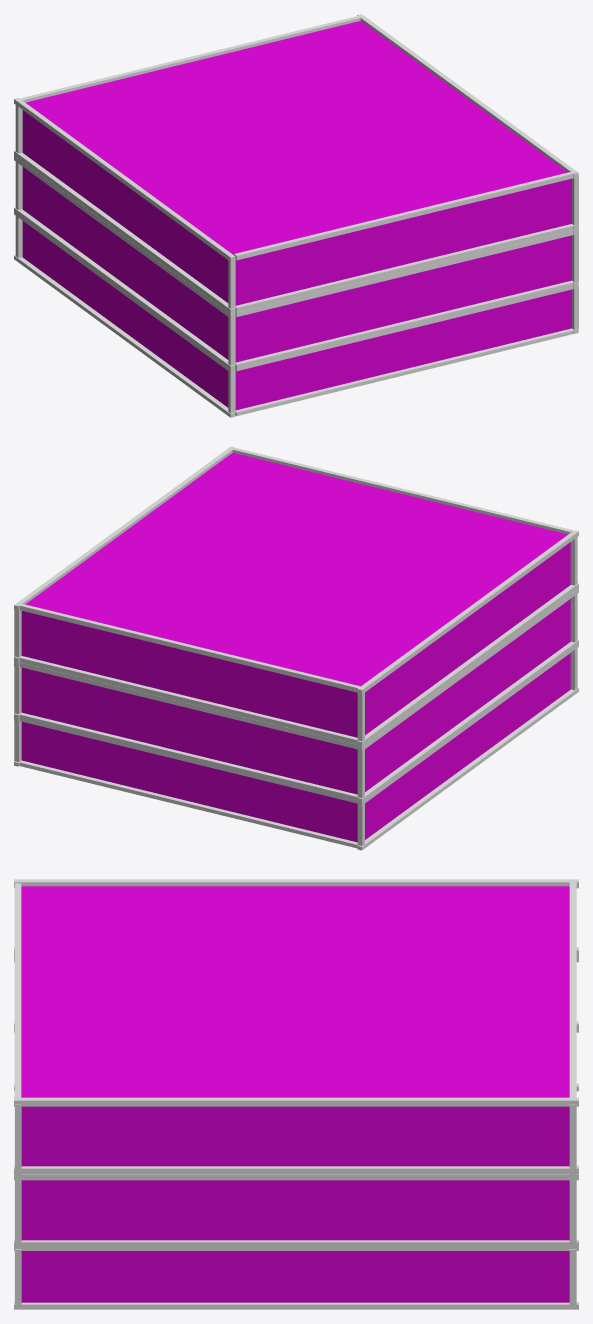
The model's file is interactivesOnly.glb.
The picture shows the model from 3 angles, top to bottom: view 1: azimuth 30°, elevation 25°; view 2: azimuth 150°, elevation 25°; view 3: azimuth 270°, elevation 25°; orthographic projection. The views are drawn at different scales.
Parts seen in each view (by area): view 1: interactive_cube_L3, interactive_cube_L2, interactive_cube_L1, interactive_frame_L3, interactive_frame_L2, interactive_frame_L1; view 2: interactive_cube_L3, interactive_cube_L2, interactive_cube_L1, interactive_frame_L3, interactive_frame_L2, interactive_frame_L1; view 3: interactive_cube_L3, interactive_cube_L2, interactive_cube_L1, interactive_frame_L3, interactive_frame_L2, interactive_frame_L1.
Boxes of the visible parts, x1,y1,x2,y2 form: interactive_cube_L3: [22, 21, 571, 305]; interactive_cube_L2: [22, 167, 571, 362]; interactive_cube_L1: [22, 221, 571, 410]; interactive_frame_L3: [14, 14, 578, 318]; interactive_frame_L2: [14, 150, 578, 370]; interactive_frame_L1: [14, 212, 578, 417]; interactive_cube_L3: [21, 453, 570, 737]; interactive_cube_L2: [21, 599, 570, 794]; interactive_cube_L1: [21, 653, 570, 842]; interactive_frame_L3: [14, 446, 578, 751]; interactive_frame_L2: [14, 583, 578, 803]; interactive_frame_L1: [14, 643, 578, 850]; interactive_cube_L3: [21, 886, 569, 1166]; interactive_cube_L2: [21, 1180, 569, 1240]; interactive_cube_L1: [21, 1251, 569, 1302]; interactive_frame_L3: [14, 879, 578, 1180]; interactive_frame_L2: [14, 947, 578, 1248]; interactive_frame_L1: [14, 1029, 578, 1309].
Size of the model in its own units: 38.64 by 16.98 by 41.62.
